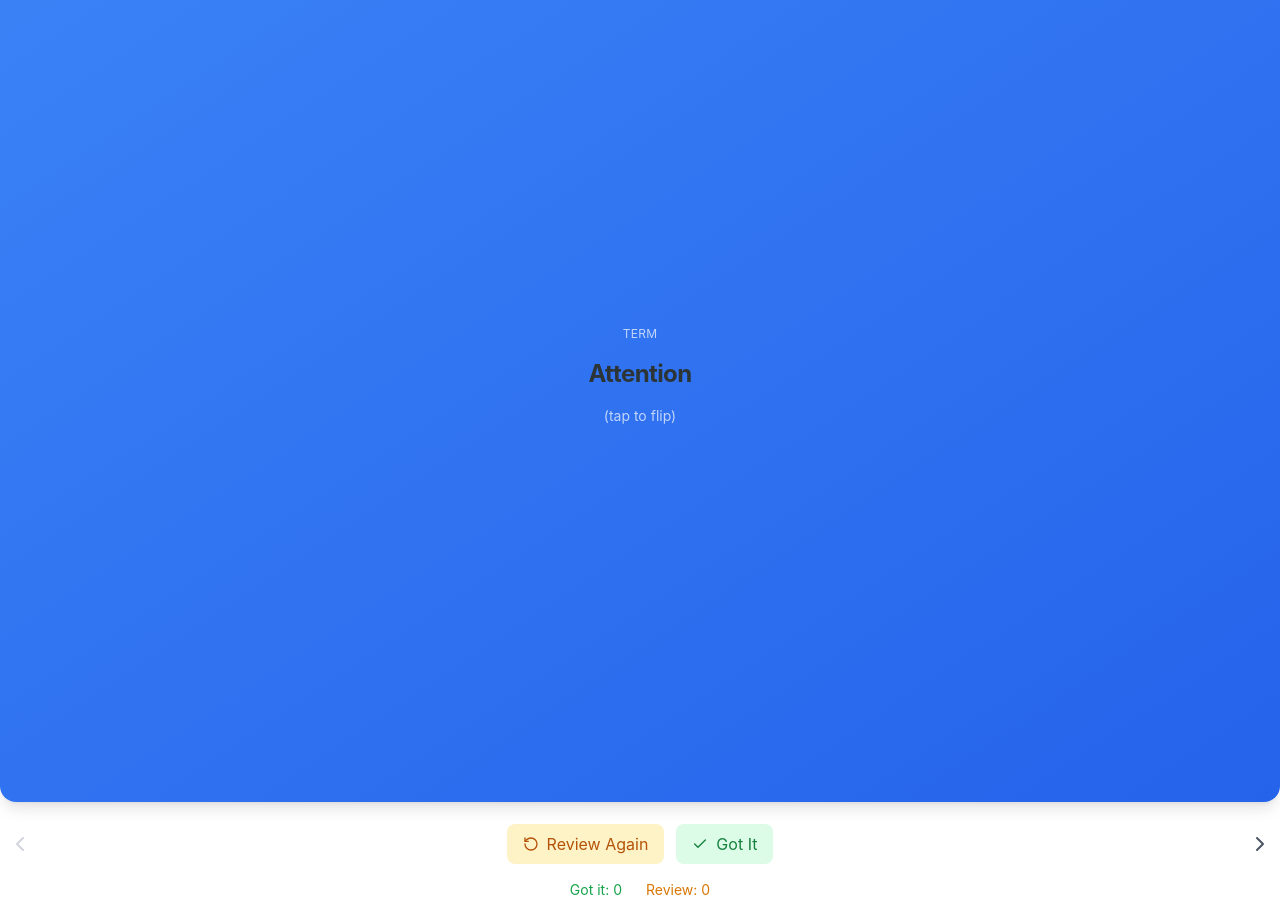
FlashcardDeck › navigates to next card when clicking next
The image size is (1280, 900).
(page scrolled)
Click the button with test id "next-button".
click(1260, 844)  # box [1240,824,1279,864]
(page scrolled)
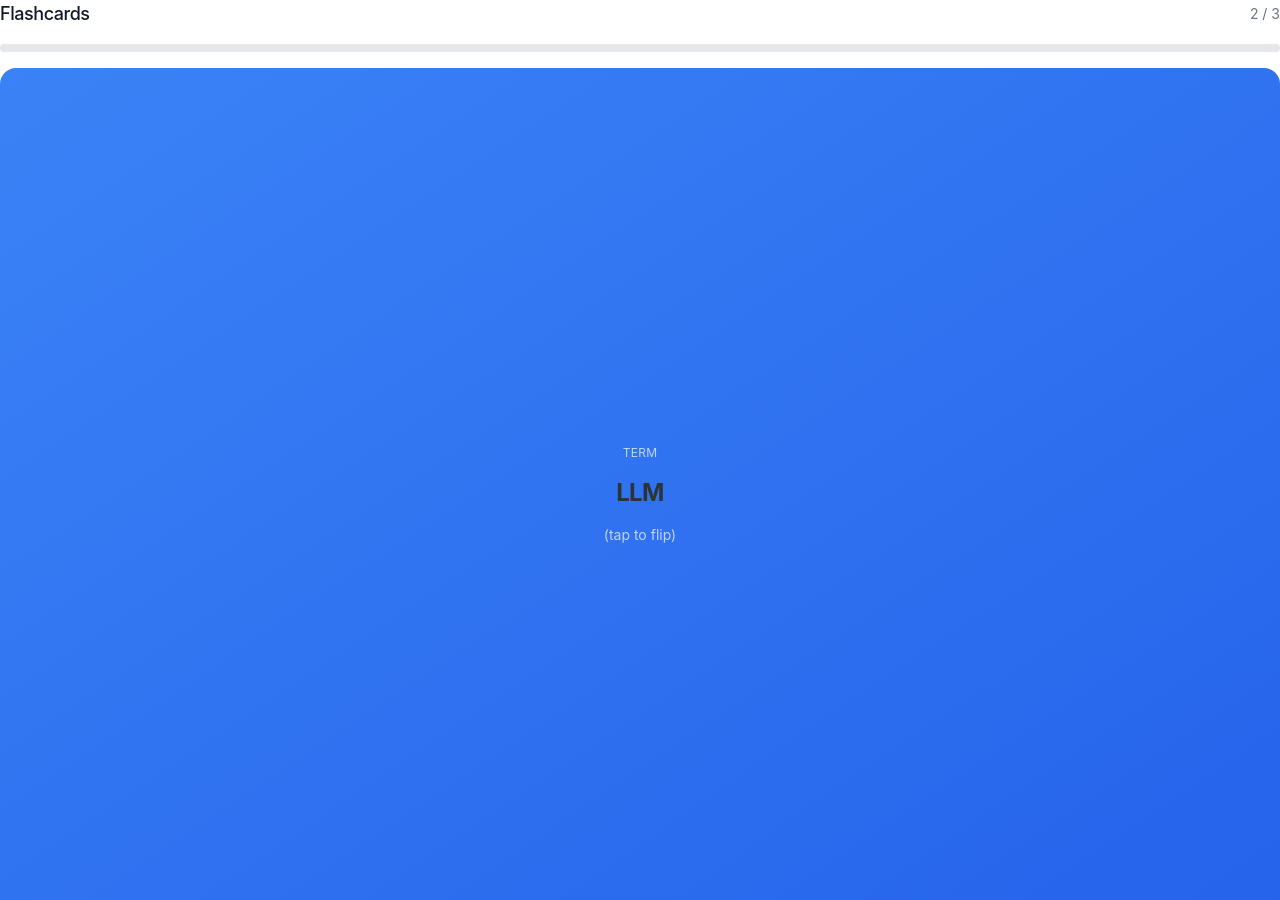
Check: the text "2 / 3" is shown, box [1250,4,1279,24]
